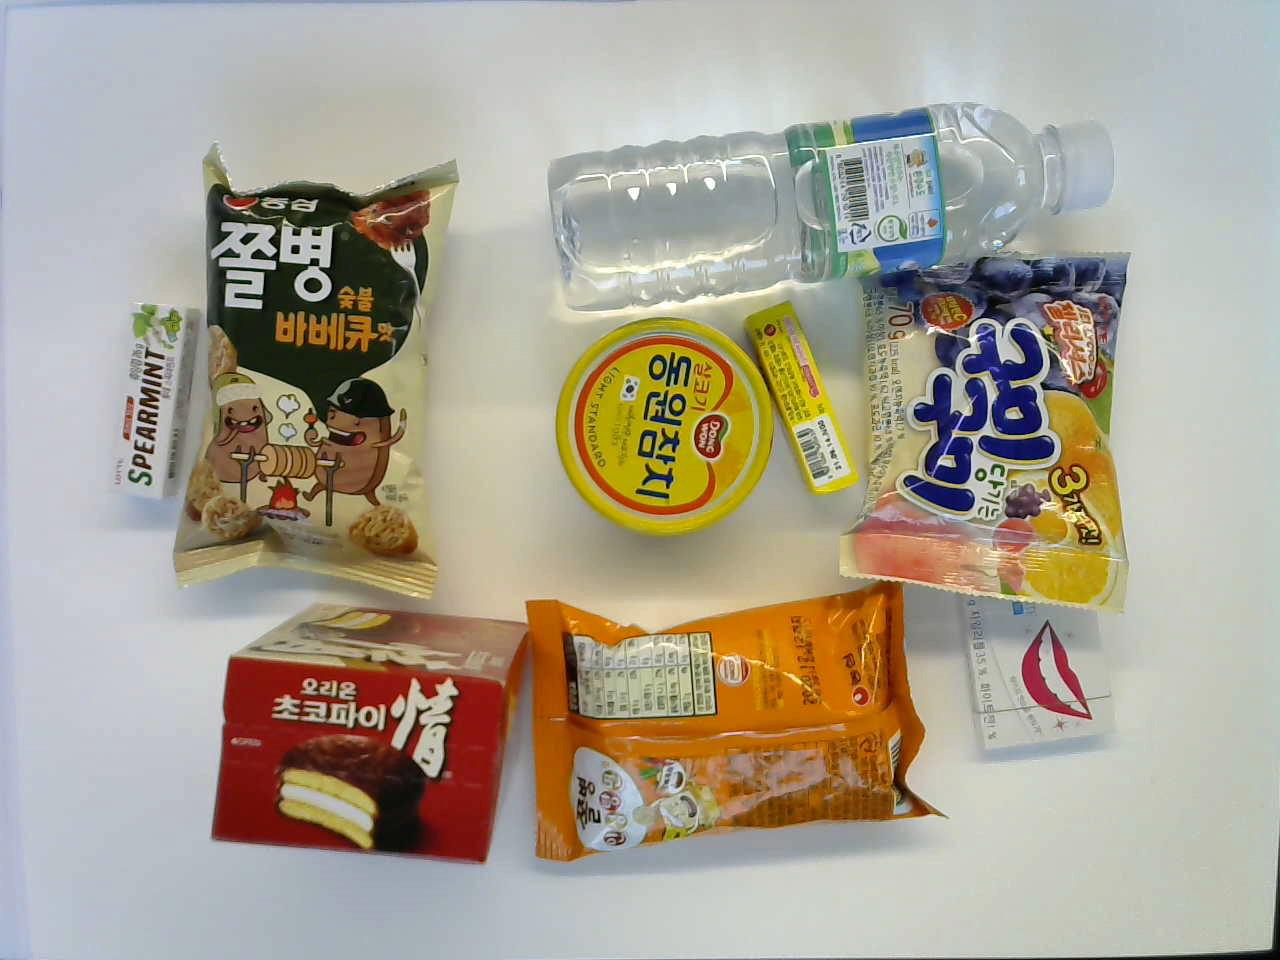chocopie: (202, 600, 532, 865)
gumi_gumi: (837, 229, 1133, 622)
jjolbyung_noodle: (519, 593, 947, 866)
jjolbyung_ori: (174, 135, 441, 608)
juicyfresh: (735, 296, 869, 496)
samdasu: (535, 96, 1122, 321)
spearmint: (107, 298, 193, 499)
tuna: (542, 308, 785, 545)
